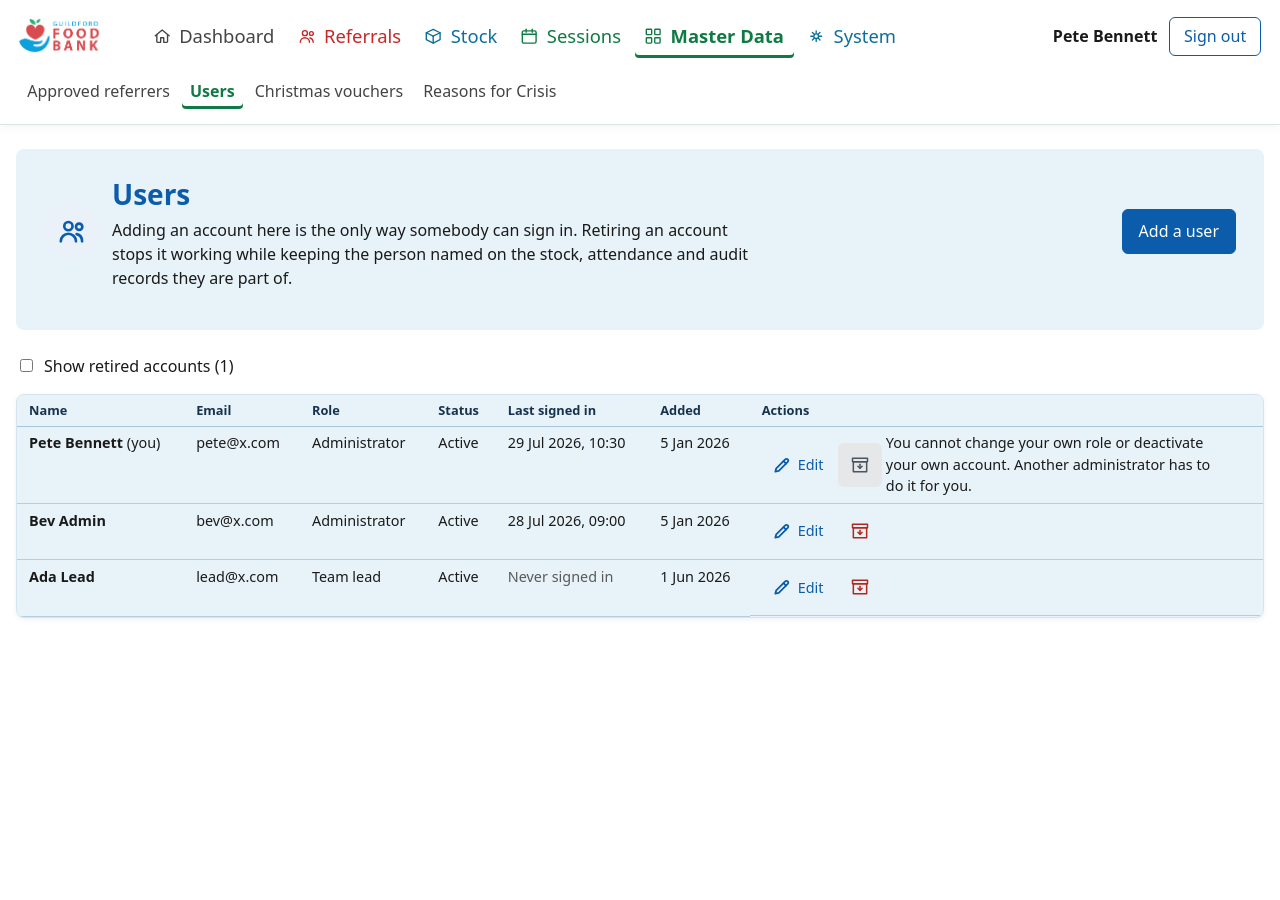
the users list › tells the truth about the fifteen-minute delay before deactivating anyone
The image size is (1280, 900).
Click the button named "Deactivate Ada Lead" at (860, 587), box 838,565 -> 882,609
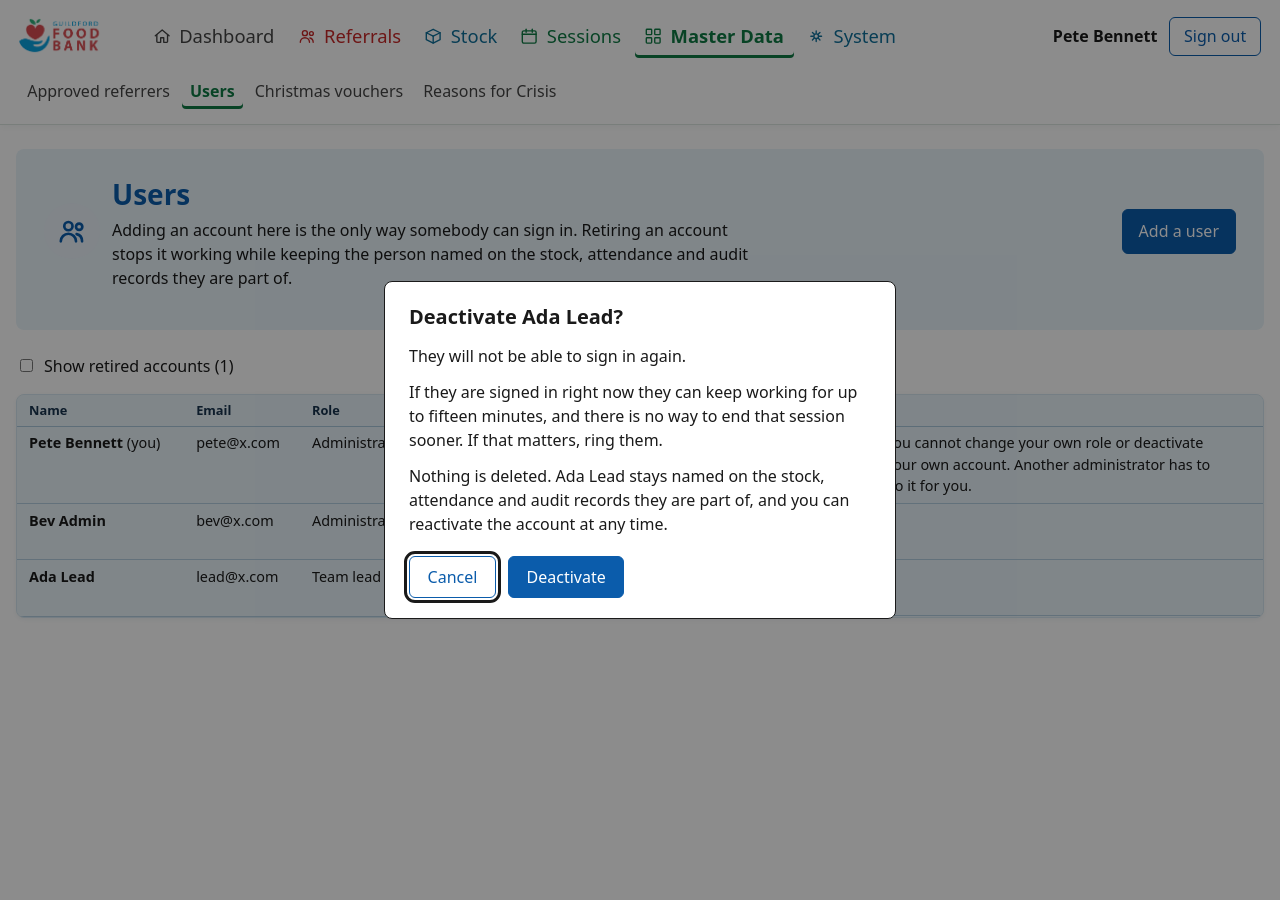
Expected: the text "no way to end that session sooner" is shown, 409,381 -> 857,451
Expected: the text "Nothing is deleted" is shown, 409,465 -> 556,487
